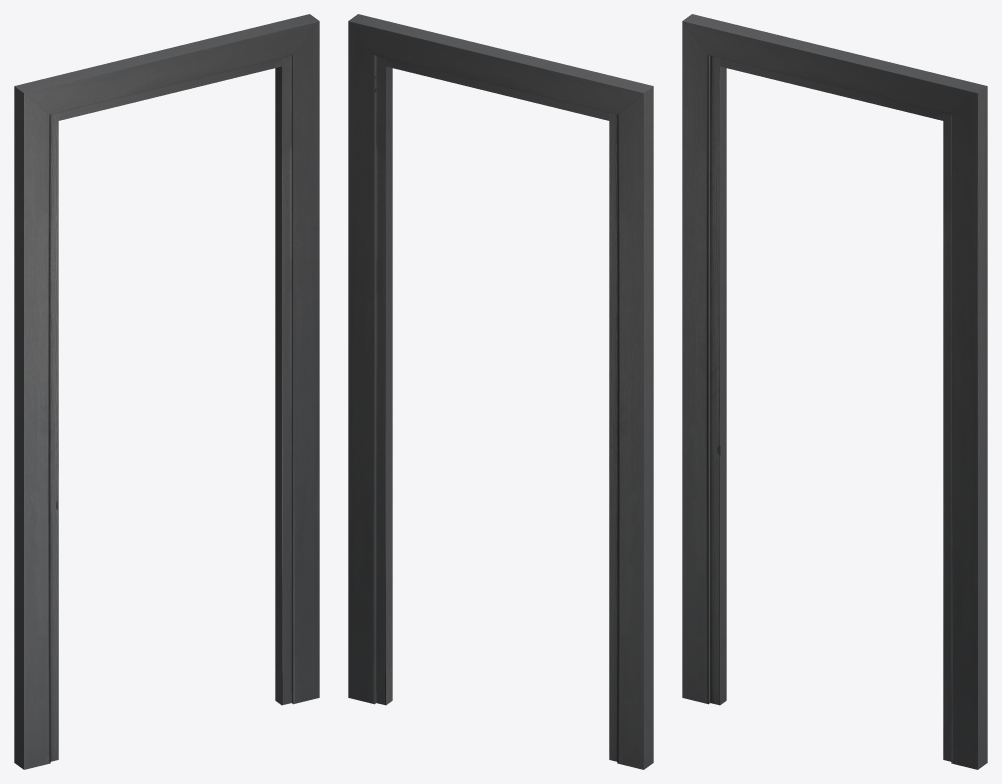
Rendered from 41_HUSTON_Frame.glb.
3 views of the same model, side by side, from view 1: azimuth 30°, elevation 25°; view 2: azimuth 150°, elevation 25°; view 3: azimuth 330°, elevation 25° (orthographic).
Visible parts, largest first — view 1: 41_HUSTON_Frame; view 2: 41_HUSTON_Frame; view 3: 41_HUSTON_Frame.
Part boxes in pixels (box(x1,y1,x2,y2)): 41_HUSTON_Frame: box(14, 14, 319, 769); 41_HUSTON_Frame: box(348, 14, 653, 769); 41_HUSTON_Frame: box(682, 14, 987, 769).
Bounding box in the file's own units: 1.06 × 2.33 × 0.0612.
Materials: 2 (1 with a texture image).
